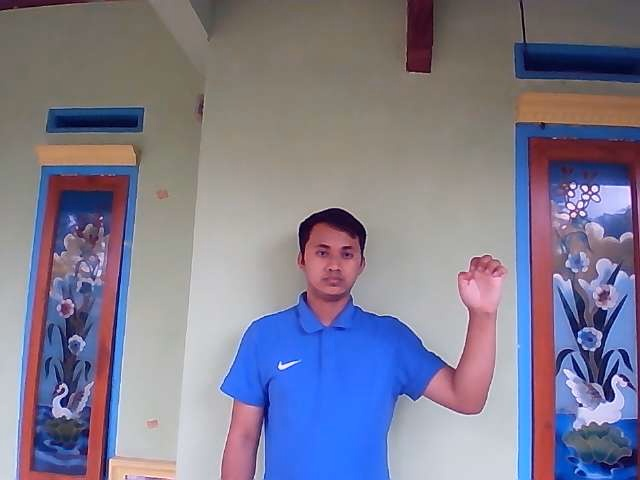E: (455, 253, 508, 318)
